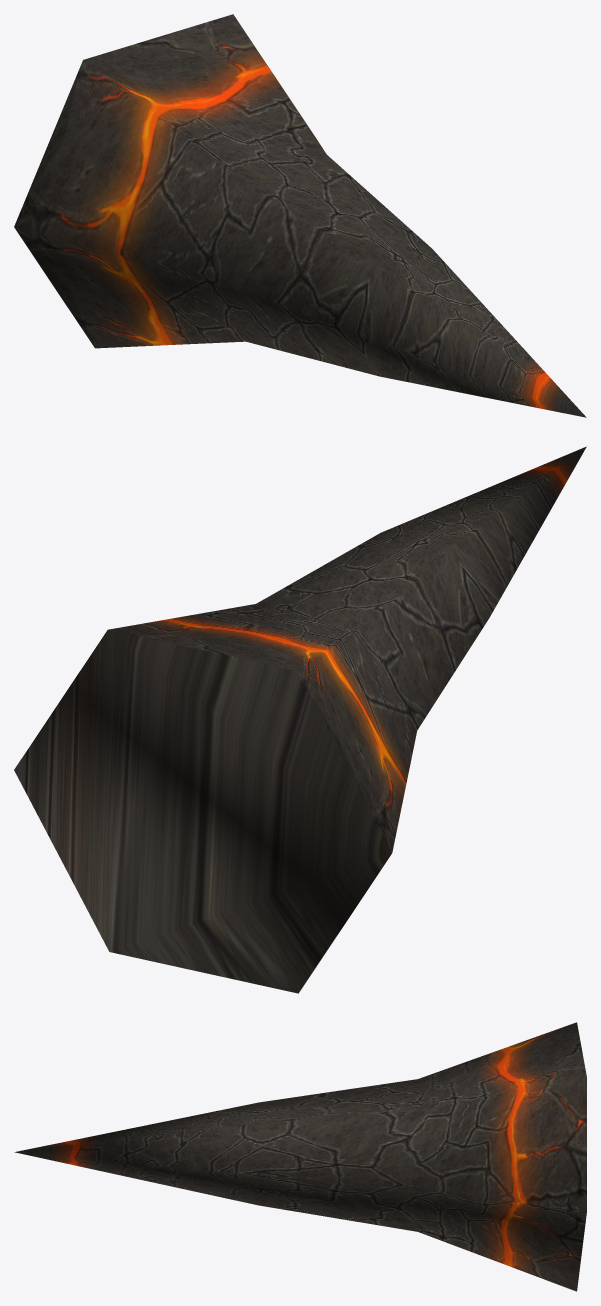
File: stalagmite_11.obj
3 renders of one model, top to bottom at view 1: azimuth 30°, elevation 25°; view 2: azimuth 150°, elevation 25°; view 3: azimuth 270°, elevation 25°, orthographic. The views are drawn at different scales.
Visible parts, largest first — view 1: (null); view 2: (null); view 3: (null).
Boxes of the visible parts, box(x1,y1,x2,y2) form: (null): box(14, 14, 586, 417); (null): box(14, 446, 586, 993); (null): box(14, 1022, 586, 1291).
Size of the model in its own units: 2.63 by 2.3 by 5.58.
